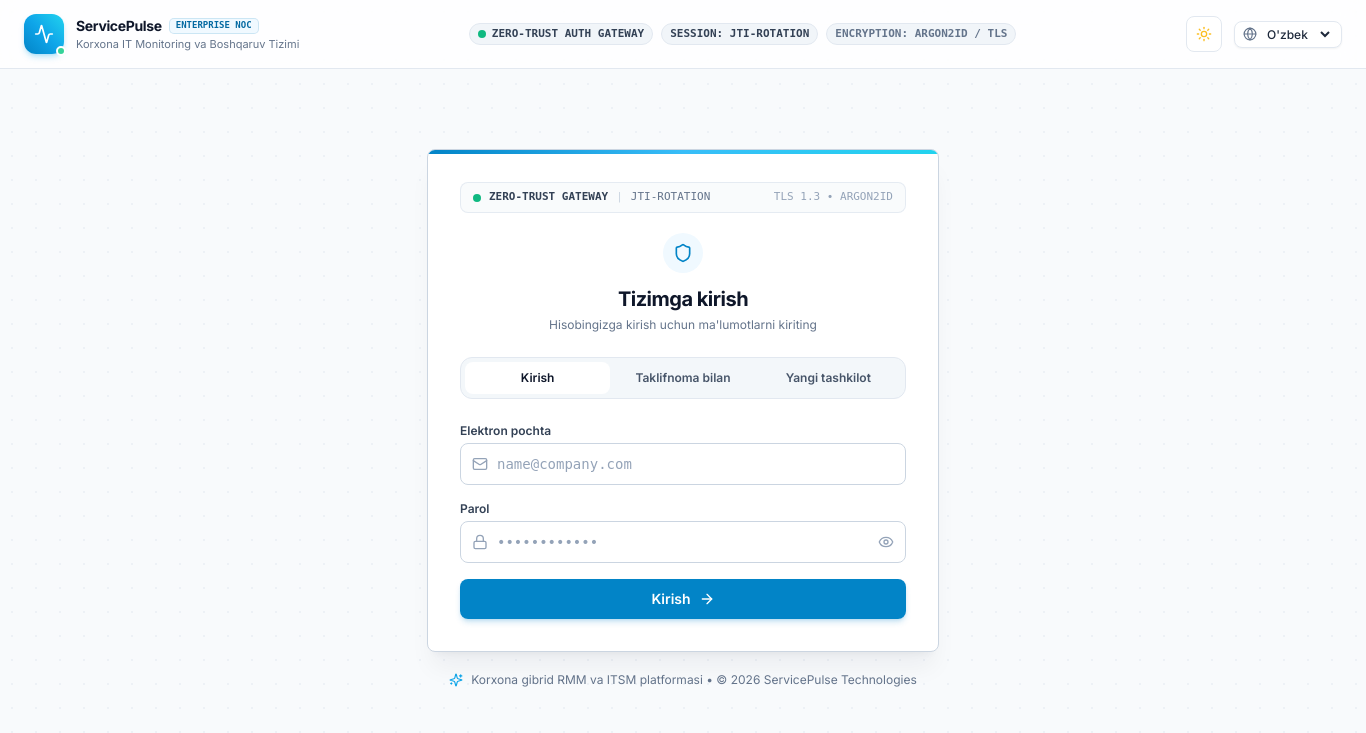
Test: Secure Authentication & Onboarding Suite › validates invitation code and displays assigned organization & role
Switch to Join tab
Click the button with test id "tab-join": (683, 378) top-left (610, 362), bottom-right (756, 394)
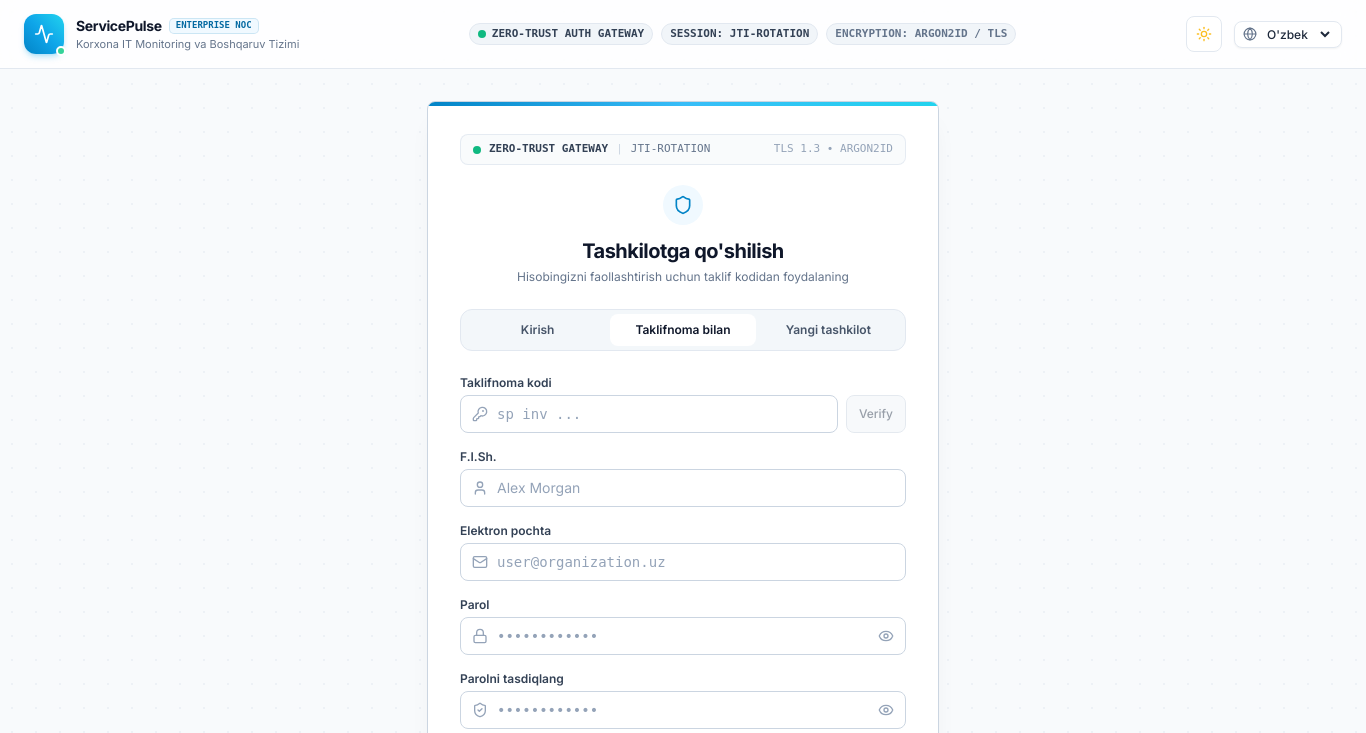
In the field with placeholder "sp_inv_...": (649, 414) top-left (460, 394), bottom-right (838, 432), type "sp_inv_valid123"
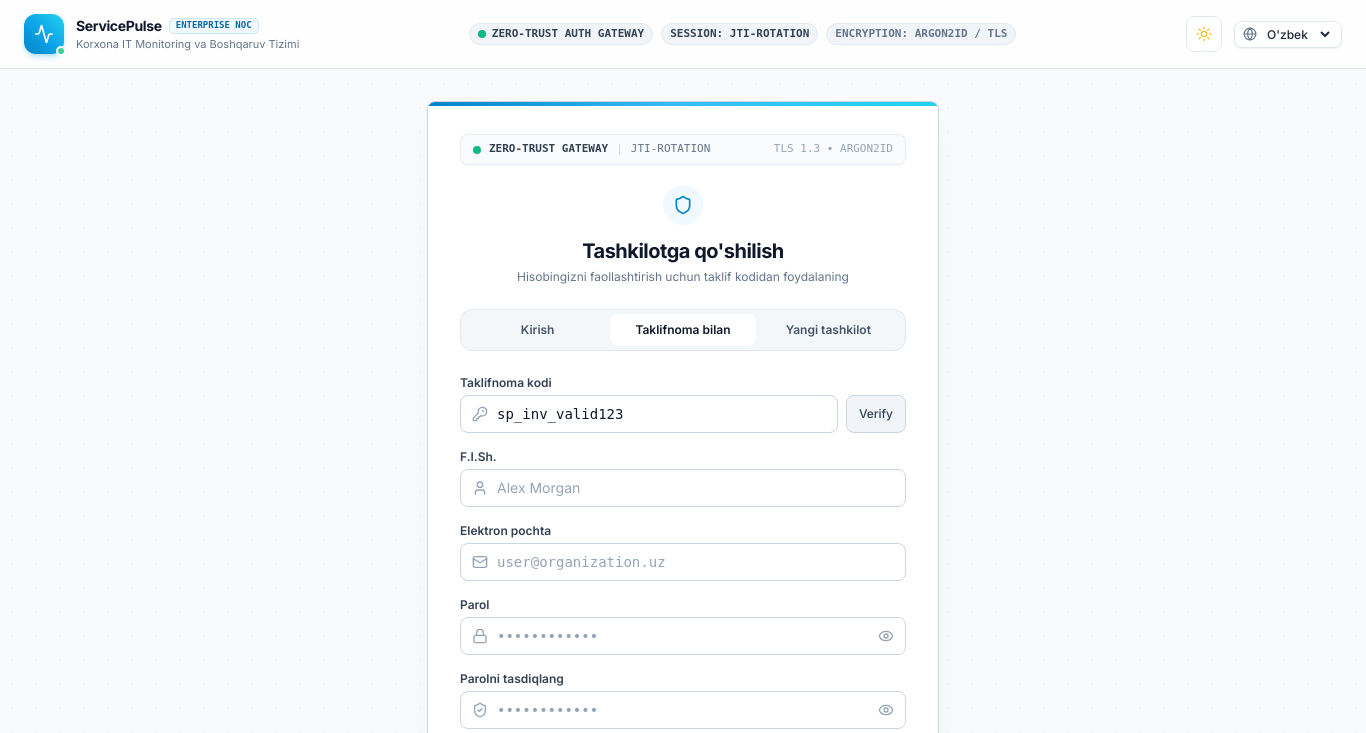
Click the button "Verify": (876, 414) top-left (846, 394), bottom-right (906, 432)
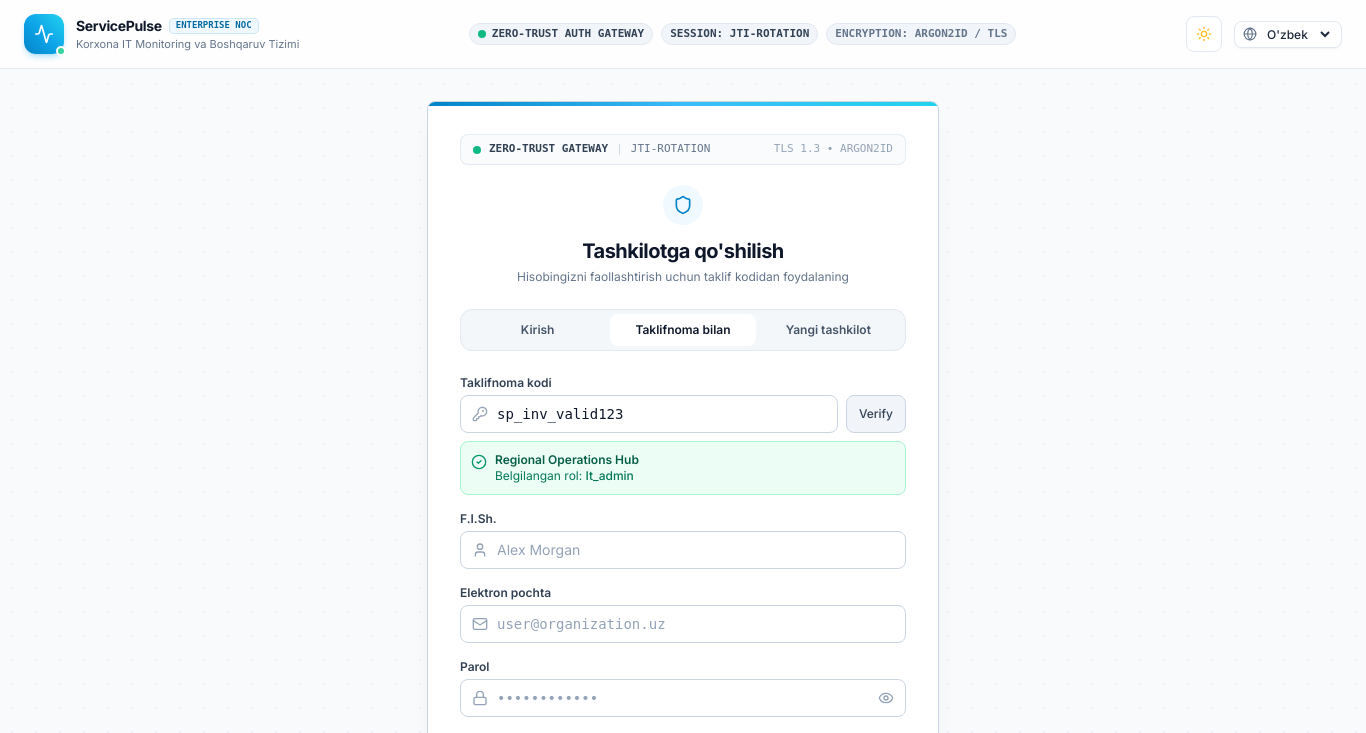
Expected: the text "Regional Operations Hub" is shown, top-left (495, 452), bottom-right (639, 468)
Expected: the text "it_admin" is shown, top-left (586, 468), bottom-right (634, 482)
